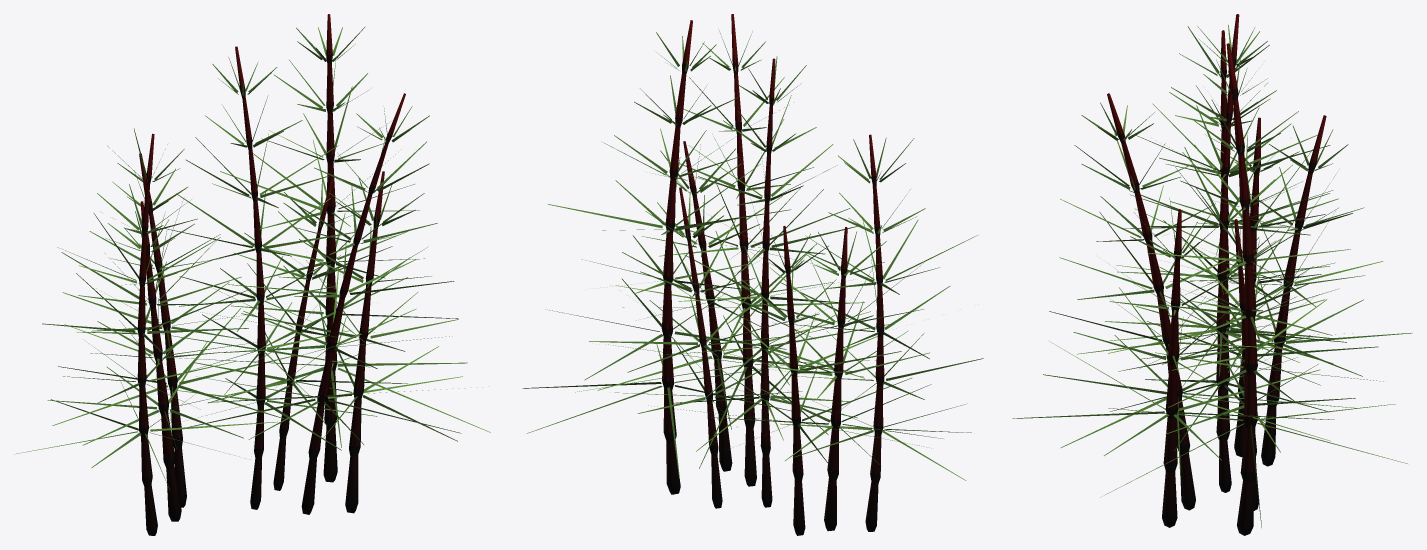
Rendered from horsetail_v01_LOD1.glb.
3 renders of one model, left to right at view 1: azimuth 30°, elevation 25°; view 2: azimuth 150°, elevation 25°; view 3: azimuth 270°, elevation 25°, orthographic. The views are drawn at different scales.
Parts seen in each view (by area): view 1: horsetail_v01_LOD1; view 2: horsetail_v01_LOD1; view 3: horsetail_v01_LOD1.
Boxes of the visible parts, bbox=[...] form: horsetail_v01_LOD1: bbox=[14, 14, 490, 535]; horsetail_v01_LOD1: bbox=[522, 14, 983, 535]; horsetail_v01_LOD1: bbox=[1012, 14, 1412, 535].
Size of the model in its own units: 0.3128 by 0.3143 by 0.2347.
2 materials, 2 textured.
